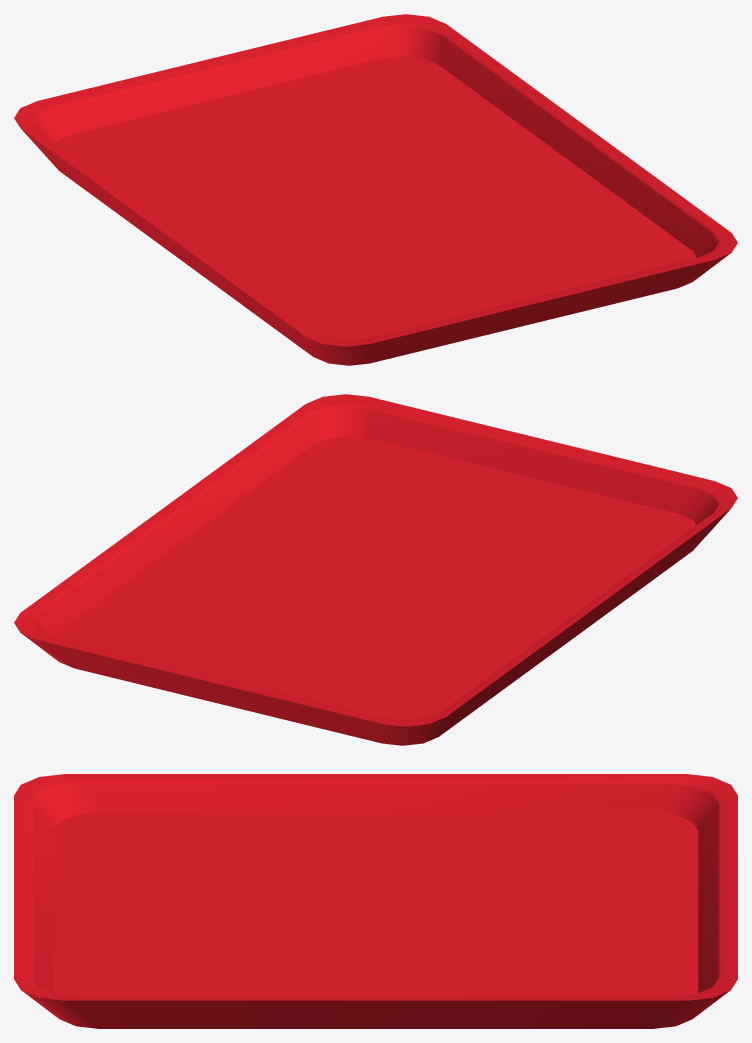
File: trayfood.fbx
3 renders of one model, top to bottom at view 1: azimuth 30°, elevation 25°; view 2: azimuth 150°, elevation 25°; view 3: azimuth 270°, elevation 25°, orthographic. The views are drawn at different scales.
Parts seen in each view (by area): view 1: Cube; view 2: Cube; view 3: Cube.
Boxes of the visible parts, left/top/right/bottom form: Cube: left=14, top=14, right=737, bottom=365; Cube: left=14, top=394, right=737, bottom=745; Cube: left=14, top=774, right=737, bottom=1028.
Bounding box in the file's own units: 225 × 18.75 × 303.
